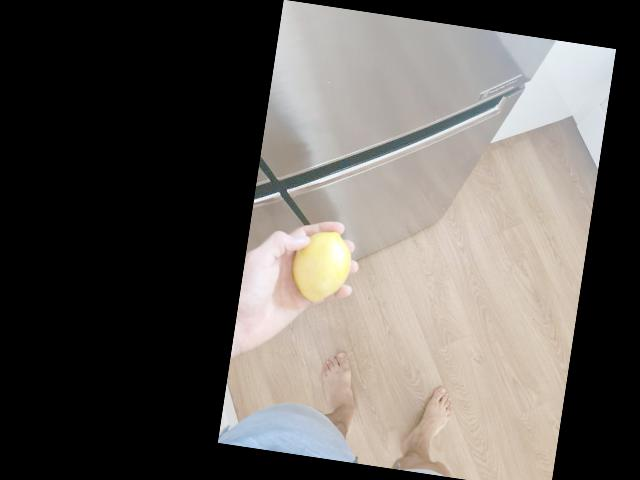lemon: (292, 226, 355, 306)
